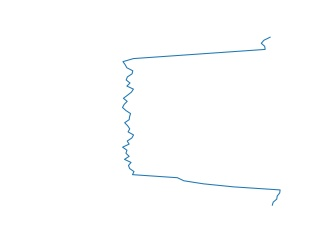distributaryChannelFill: (118, 35, 282, 207)
